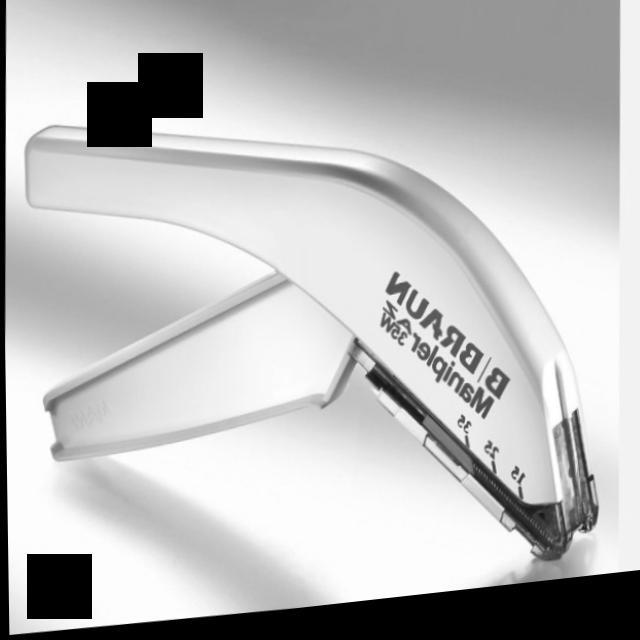Senn Retractor: (15, 74, 612, 620)
